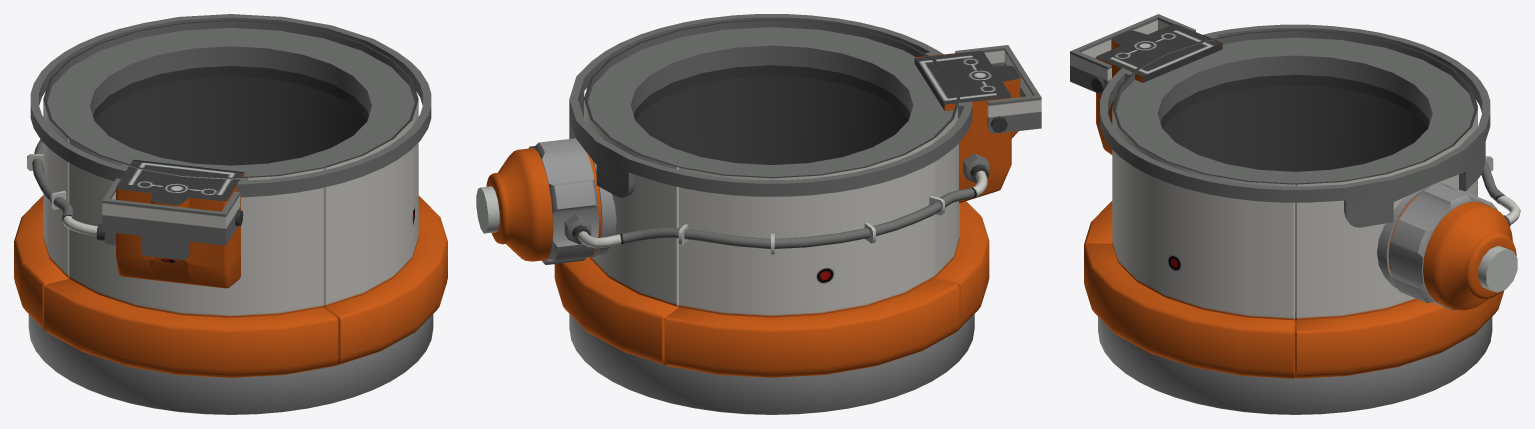
The model's file is gel_orange.glb.
The picture shows the model from 3 angles, left to right: view 1: azimuth 30°, elevation 25°; view 2: azimuth 150°, elevation 25°; view 3: azimuth 270°, elevation 25°; orthographic projection. The views are drawn at different scales.
Visible parts, largest first — view 1: EDITOR_paint_dropper.004; view 2: EDITOR_paint_dropper.004; view 3: EDITOR_paint_dropper.004.
Part boxes in pixels (x1=…): EDITOR_paint_dropper.004: x1=14, y1=14, x2=447, y2=414; EDITOR_paint_dropper.004: x1=476, y1=14, x2=1041, y2=414; EDITOR_paint_dropper.004: x1=1070, y1=14, x2=1520, y2=414.
Bounding box in the file's own units: 1.52 × 0.894 × 1.54.
Materials: 1 (1 with a texture image).
